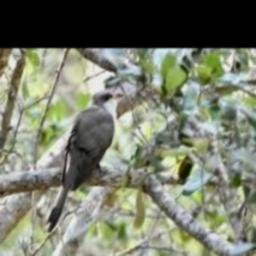Cuckoo: (47, 91, 123, 232)
